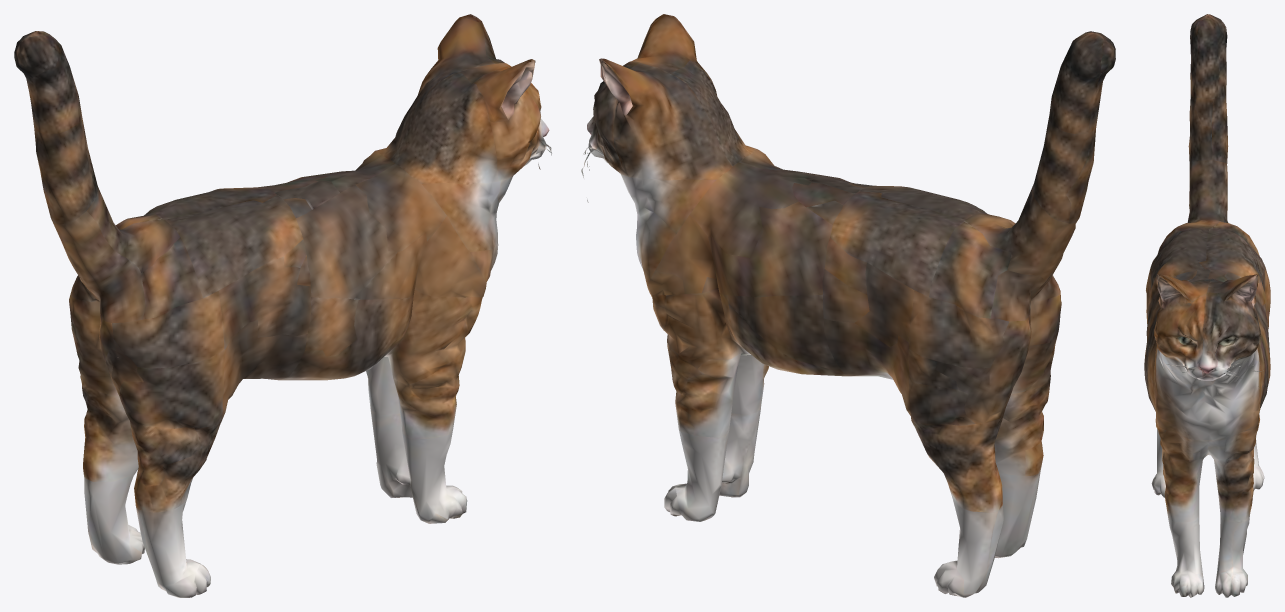
Rendered from KIKUCHAN-lo.glb.
3 views of the same model, side by side, from view 1: azimuth 30°, elevation 25°; view 2: azimuth 150°, elevation 25°; view 3: azimuth 270°, elevation 25° (orthographic). The views are drawn at different scales.
Visible parts, largest first — view 1: tripo_node_0c815f29-cfa9-4fcc-a8cf-2dfec9cfd8dc; view 2: tripo_node_0c815f29-cfa9-4fcc-a8cf-2dfec9cfd8dc; view 3: tripo_node_0c815f29-cfa9-4fcc-a8cf-2dfec9cfd8dc.
Part boxes in pixels (x1,y1,x2,y2): tripo_node_0c815f29-cfa9-4fcc-a8cf-2dfec9cfd8dc: (14,14,551,597); tripo_node_0c815f29-cfa9-4fcc-a8cf-2dfec9cfd8dc: (581,14,1115,597); tripo_node_0c815f29-cfa9-4fcc-a8cf-2dfec9cfd8dc: (1144,14,1270,597).
Bounding box in the file's own units: 0.9731 × 0.9999 × 0.266.
1 material, 1 textured.
